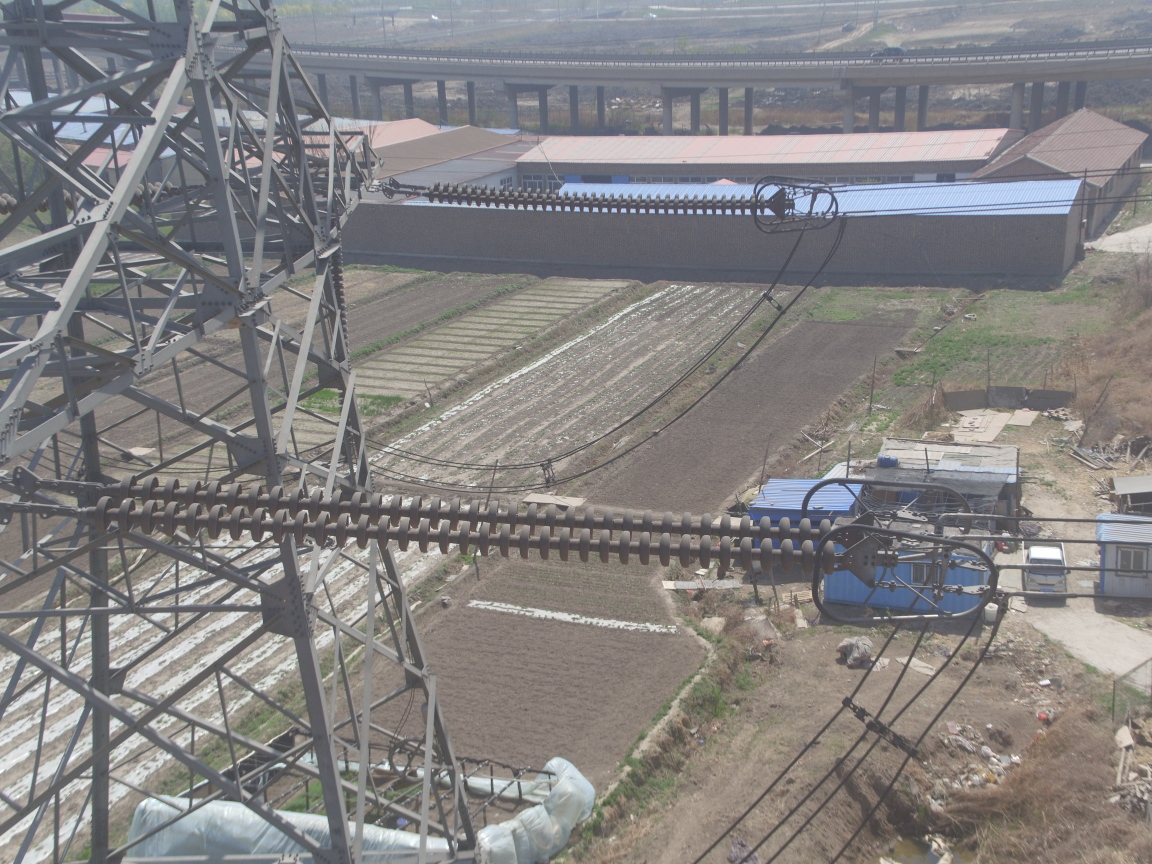insulator: (49, 472, 859, 574), (404, 178, 774, 217)
